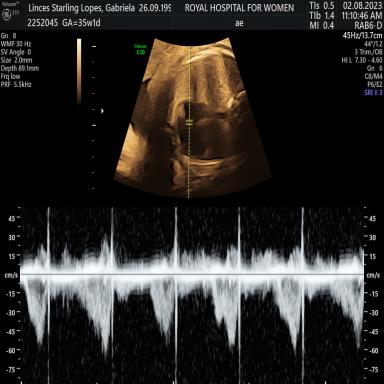Ultrasound-Waves: (26, 205, 360, 384)
